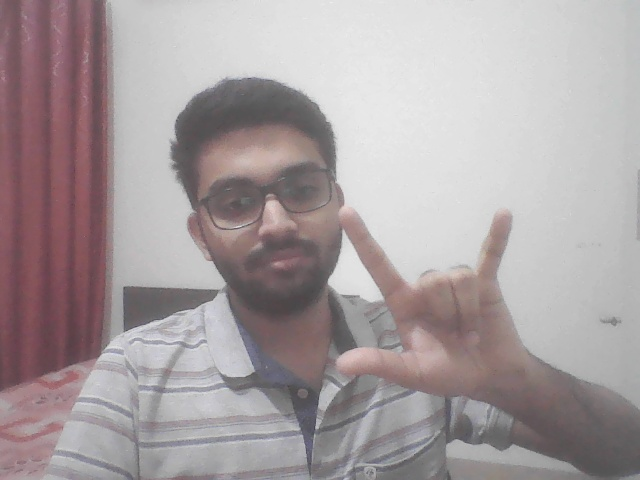iloveyou: (307, 201, 530, 418)
